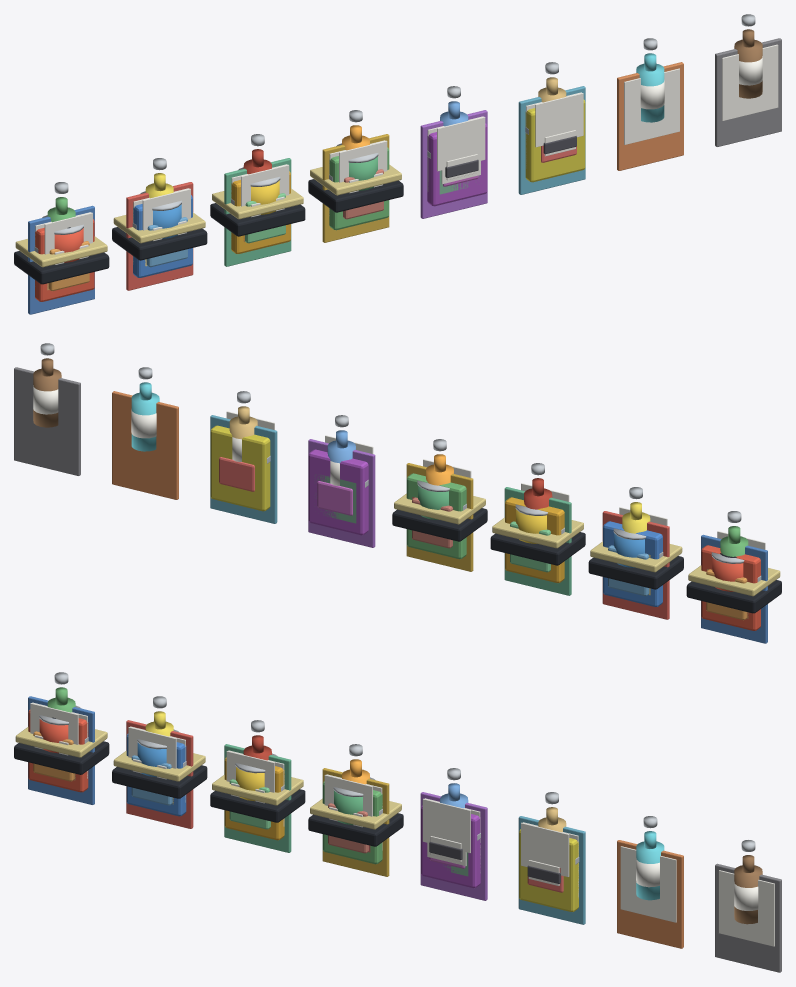
The model's file is product-templates.glb.
The picture shows the model from 3 angles, top to bottom: view 1: azimuth 30°, elevation 25°; view 2: azimuth 150°, elevation 25°; view 3: azimuth 330°, elevation 25°; orthographic projection.
Parts seen in each view (by area): view 1: Blender product | mag-6, Blender product | mag-7, Blender product | snack-5, Blender product | snack-4, Blender product | bento-1, Blender product | bento-3, Blender product | bento-2, Blender product | bento-0, Blender product | snack-3, Blender product | snack-2, Blender product | snack-0, Blender product | snack-1 (+24 smaller); view 2: Blender product | mag-6, Blender product | mag-7, Blender product | snack-5, Blender product | snack-4, Blender product | bento-1, Blender product | bento-3, Blender product | bento-2, Blender product | bento-0, Blender product | mag-5, Blender product | mag-4, Blender product | bottle-6, Blender product | bottle-7 (+22 smaller); view 3: Blender product | mag-7, Blender product | mag-6, Blender product | snack-5, Blender product | snack-4, Blender product | bento-0, Blender product | bento-1, Blender product | bento-2, Blender product | bento-3, Blender product | snack-1, Blender product | snack-2, Blender product | snack-0, Blender product | snack-3 (+24 smaller).
Part boxes in pixels (<box>): Blender product | mag-6: <box>617,62,683,170</box>; Blender product | mag-7: <box>715,38,781,146</box>; Blender product | snack-5: <box>525,93,585,182</box>; Blender product | snack-4: <box>427,116,487,206</box>; Blender product | bento-1: <box>112,212,207,260</box>; Blender product | bento-3: <box>308,164,403,212</box>; Blender product | bento-2: <box>210,188,305,236</box>; Blender product | bento-0: <box>14,236,109,284</box>; Blender product | snack-3: <box>329,140,389,230</box>; Blender product | snack-2: <box>231,164,290,253</box>; Blender product | snack-0: <box>34,212,94,301</box>; Blender product | snack-1: <box>132,188,192,277</box>; Blender product | mag-6: <box>112,391,178,499</box>; Blender product | mag-7: <box>14,367,80,475</box>; Blender product | snack-5: <box>210,411,274,511</box>; Blender product | snack-4: <box>308,435,373,535</box>; Blender product | bento-1: <box>588,541,683,589</box>; Blender product | bento-3: <box>392,493,487,541</box>; Blender product | bento-2: <box>490,517,585,565</box>; Blender product | bento-0: <box>686,565,781,613</box>; Blender product | mag-5: <box>210,415,277,523</box>; Blender product | mag-4: <box>308,439,375,547</box>; Blender product | bottle-6: <box>131,367,159,451</box>; Blender product | bottle-7: <box>33,343,61,427</box>; Blender product | mag-7: <box>715,863,781,972</box>; Blender product | mag-6: <box>617,840,683,948</box>; Blender product | snack-5: <box>519,822,579,911</box>; Blender product | snack-4: <box>421,798,480,888</box>; Blender product | bento-0: <box>14,727,109,774</box>; Blender product | bento-1: <box>112,750,207,798</box>; Blender product | bento-2: <box>210,774,305,822</box>; Blender product | bento-3: <box>308,798,403,846</box>; Blender product | snack-1: <box>126,727,186,816</box>; Blender product | snack-2: <box>224,751,284,840</box>; Blender product | snack-0: <box>28,703,88,792</box>; Blender product | snack-3: <box>322,775,382,864</box>.
Bounding box in the file's own units: 2.3 × 0.3558 × 0.15.
